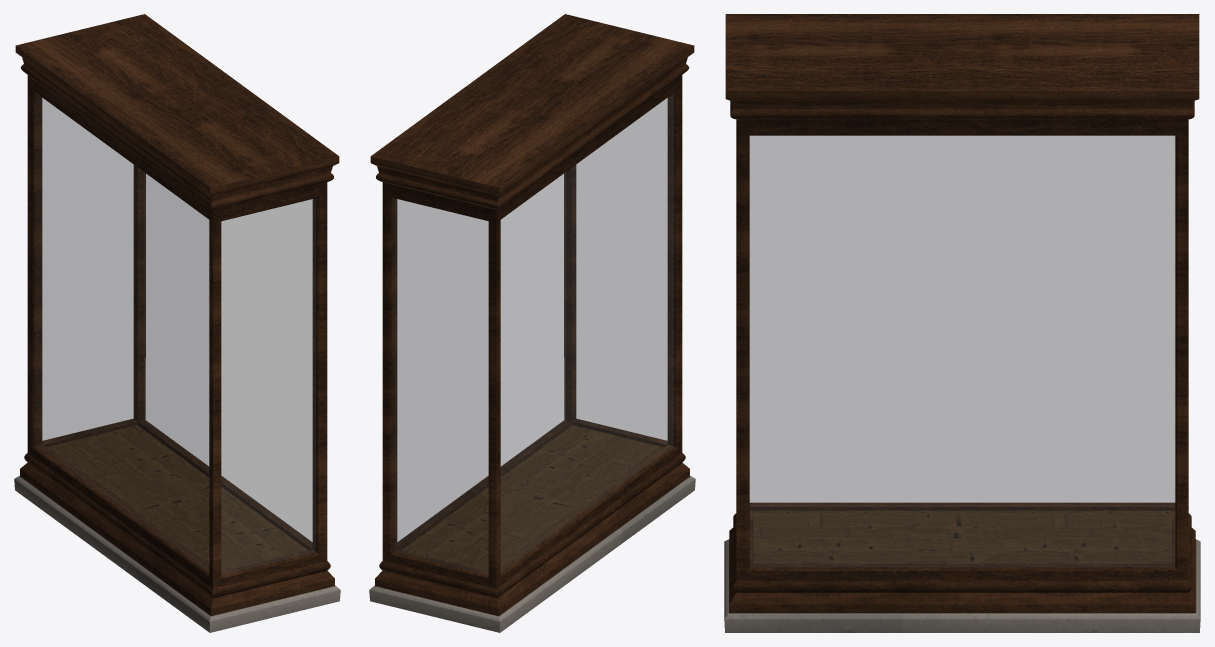
The picture shows the model from 3 angles, left to right: view 1: azimuth 30°, elevation 25°; view 2: azimuth 150°, elevation 25°; view 3: azimuth 270°, elevation 25°; orthographic projection. The views are drawn at different scales.
Visible parts, largest first — view 1: Glass.ShowcaseTall_2, ShowcaseGross_3; view 2: Glass.ShowcaseTall_2, ShowcaseGross_3; view 3: Glass.ShowcaseTall_2, ShowcaseGross_3.
Part boxes in pixels (box(x1,y1,x2,y2)): Glass.ShowcaseTall_2: box(36, 93, 315, 574); ShowcaseGross_3: box(14, 14, 340, 632); Glass.ShowcaseTall_2: box(394, 93, 673, 574); ShowcaseGross_3: box(369, 14, 695, 632); Glass.ShowcaseTall_2: box(750, 136, 1174, 566); ShowcaseGross_3: box(724, 14, 1200, 632).
Bounding box in the file's own units: 0.7533 × 2.44 × 1.94.
2 materials, 1 textured.
